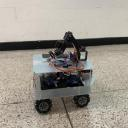cart: (33, 54, 95, 114)
